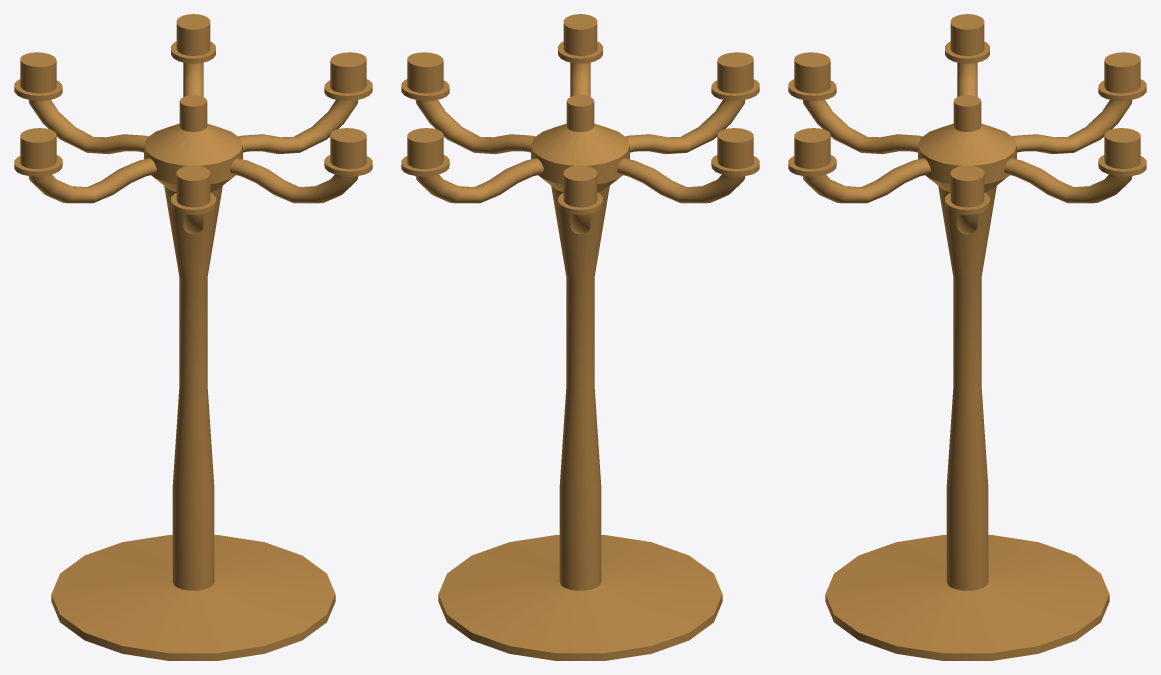
File: Candles.FBX
The picture shows the model from 3 angles, left to right: view 1: azimuth 30°, elevation 25°; view 2: azimuth 150°, elevation 25°; view 3: azimuth 270°, elevation 25°; orthographic projection.
Parts seen in each view (by area): view 1: Candle; view 2: Candle; view 3: Candle.
Boxes of the visible parts, x1,y1,x2,y2 form: Candle: (14, 14, 372, 660); Candle: (401, 14, 759, 660); Candle: (788, 14, 1146, 660).
Bounding box in the file's own units: 111 × 151 × 97.49.
